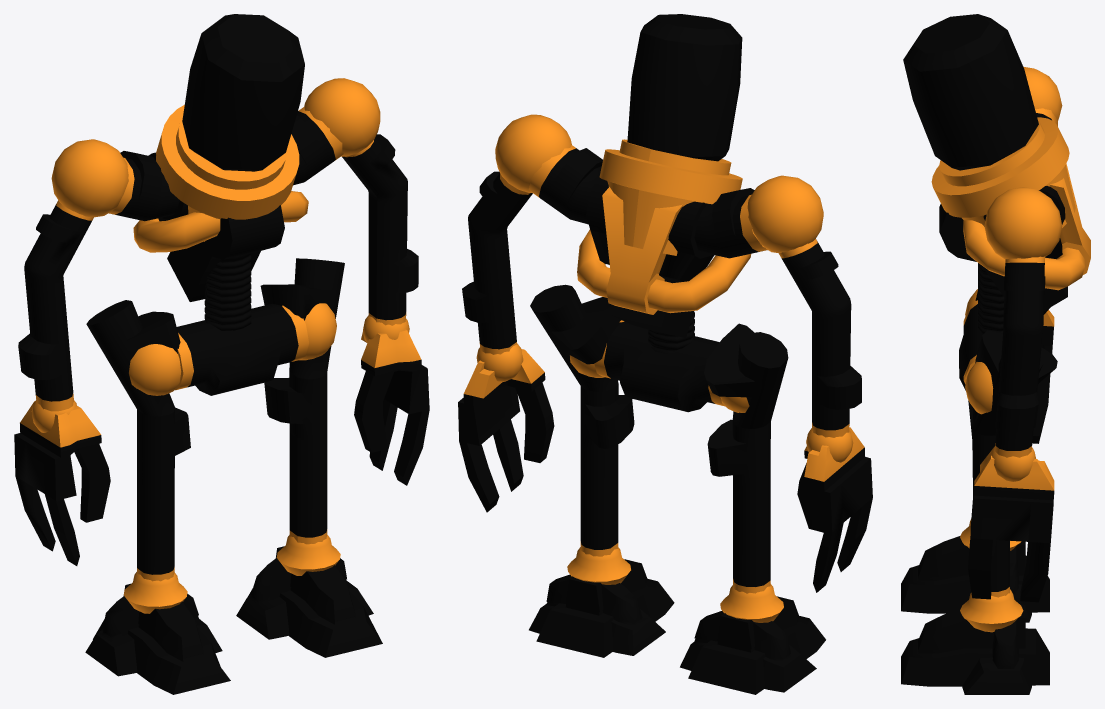
Rendered from Robot_BaseParts.fbx.
3 views of the same model, side by side, from view 1: azimuth 30°, elevation 25°; view 2: azimuth 150°, elevation 25°; view 3: azimuth 270°, elevation 25° (orthographic).
Parts seen in each view (by area): view 1: BaseHead, BaseSpine.003, BaseHand.R, BaseFoot.L, BaseFoot.R, BaseSpine.001, BaseHand.L, BaseSpine.009, BaseLeg.L.004, BaseLeg.R.004, BaseHadn.R.004, BaseHadn.L.004 (+13 smaller); view 2: BaseHead, BaseSpine.003, BaseSpine.010, BaseFoot.R, BaseFoot.L, BaseHand.L, BaseSpine.009, BaseLeg.R.004, BaseHand.R, BaseLeg.L.004, BaseSpine.001, BaseLeg.R (+12 smaller); view 3: BaseHead, BaseFoot.L, BaseHand.L, BaseSpine.009, BaseFoot.R, BaseHadn.L.004, BaseSpine.012, BaseSpine.010, BaseHadn.L, BaseSpine.003, BaseLeg.L, BaseLeg.L.003 (+7 smaller).
Boxes of the visible parts, box(x1,y1,x2,y2) form: BaseHead: box(182, 14, 304, 171); BaseSpine.003: box(109, 107, 343, 301); BaseHand.R: box(14, 401, 110, 565); BaseFoot.L: box(236, 546, 382, 657); BaseFoot.R: box(85, 583, 230, 694); BaseSpine.001: box(175, 303, 308, 395); BaseHand.L: box(354, 329, 429, 485); BaseSpine.009: box(156, 105, 299, 241); BaseLeg.L.004: box(264, 372, 327, 544); BaseLeg.R.004: box(137, 407, 190, 581); BaseHadn.R.004: box(18, 266, 73, 411); BaseHadn.L.004: box(368, 181, 418, 325); BaseHead: box(627, 14, 742, 161); BaseSpine.003: box(528, 145, 767, 337); BaseSpine.010: box(577, 187, 751, 314); BaseFoot.R: box(680, 596, 825, 694); BaseFoot.L: box(529, 559, 674, 657); BaseHand.L: box(458, 349, 554, 512); BaseSpine.009: box(599, 139, 742, 255); BaseLeg.R.004: box(707, 419, 770, 593); BaseHand.R: box(797, 427, 872, 592); BaseLeg.L.004: box(580, 384, 634, 556); BaseSpine.001: box(594, 320, 724, 412); BaseLeg.R: box(704, 323, 788, 428); BaseHead: box(903, 14, 1038, 170); BaseFoot.L: box(901, 605, 1049, 694); BaseHand.L: box(968, 449, 1054, 602); BaseSpine.009: box(931, 117, 1075, 227); BaseFoot.R: box(901, 536, 1049, 622); BaseHadn.L.004: box(995, 327, 1043, 457); BaseSpine.012: box(984, 187, 1062, 259); BaseSpine.010: box(963, 163, 1090, 290); BaseHadn.L: box(1003, 256, 1045, 329); BaseSpine.003: box(939, 108, 1067, 310); BaseLeg.L: box(972, 330, 1057, 435); BaseLeg.L.003: box(960, 589, 1023, 632).
Size of the model in its own units: 146 by 221 by 62.08.
